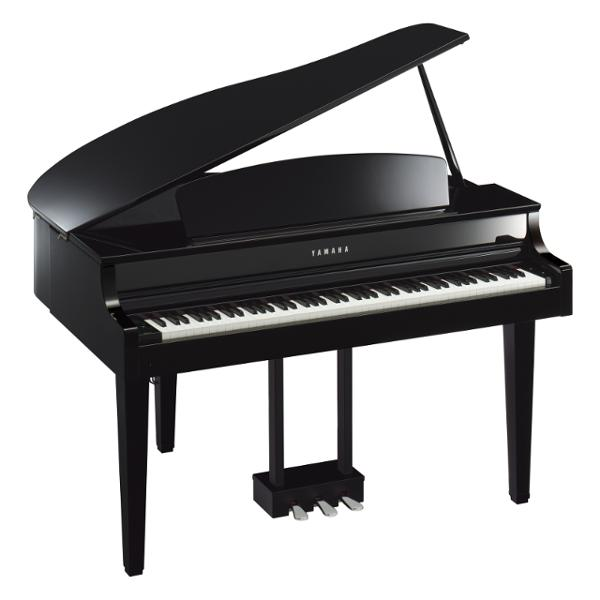GrandPiano: (17, 112, 583, 408)
